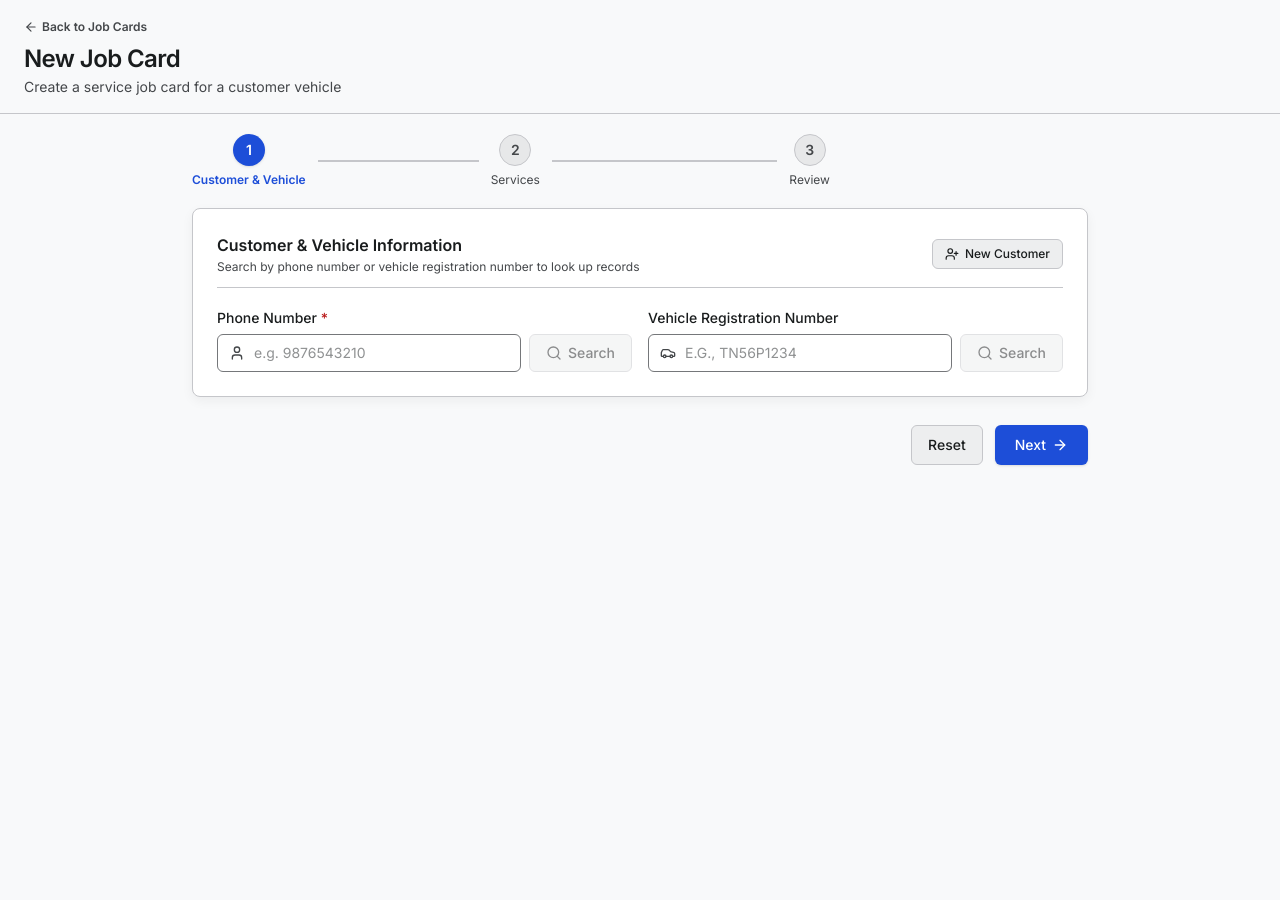
Test case: NewJobCard Component Workflow › looks up customer by phone number and automatically loads customer vehicles
The width and height of the screenshot is (1280, 900).
Type "9876543210" into the field with placeholder "e.g. 9876543210" at x=369, y=353, box [217, 334, 521, 372]
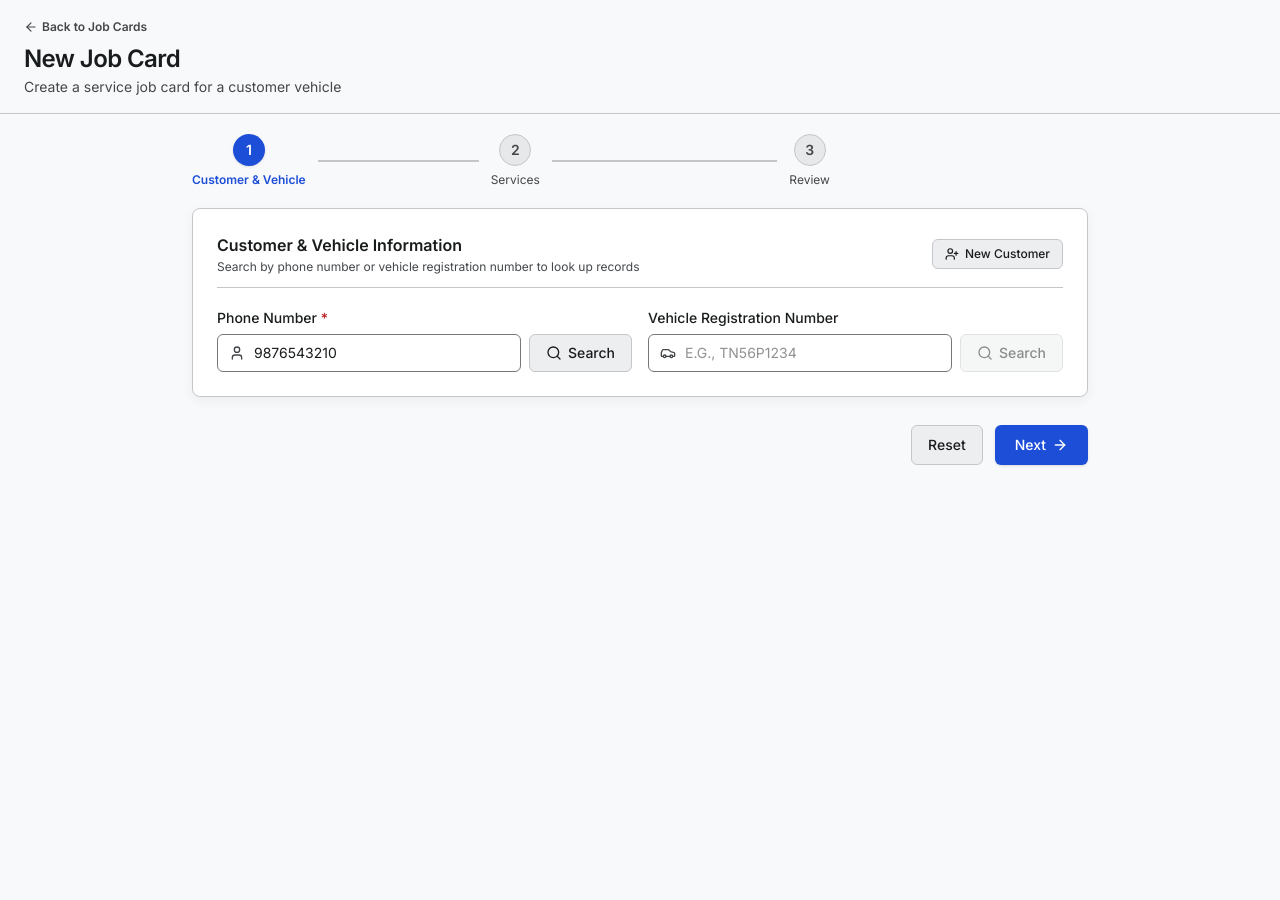
# Click search button next to phone
Click the 1st button "Search" at x=580, y=353, box [529, 334, 632, 372]
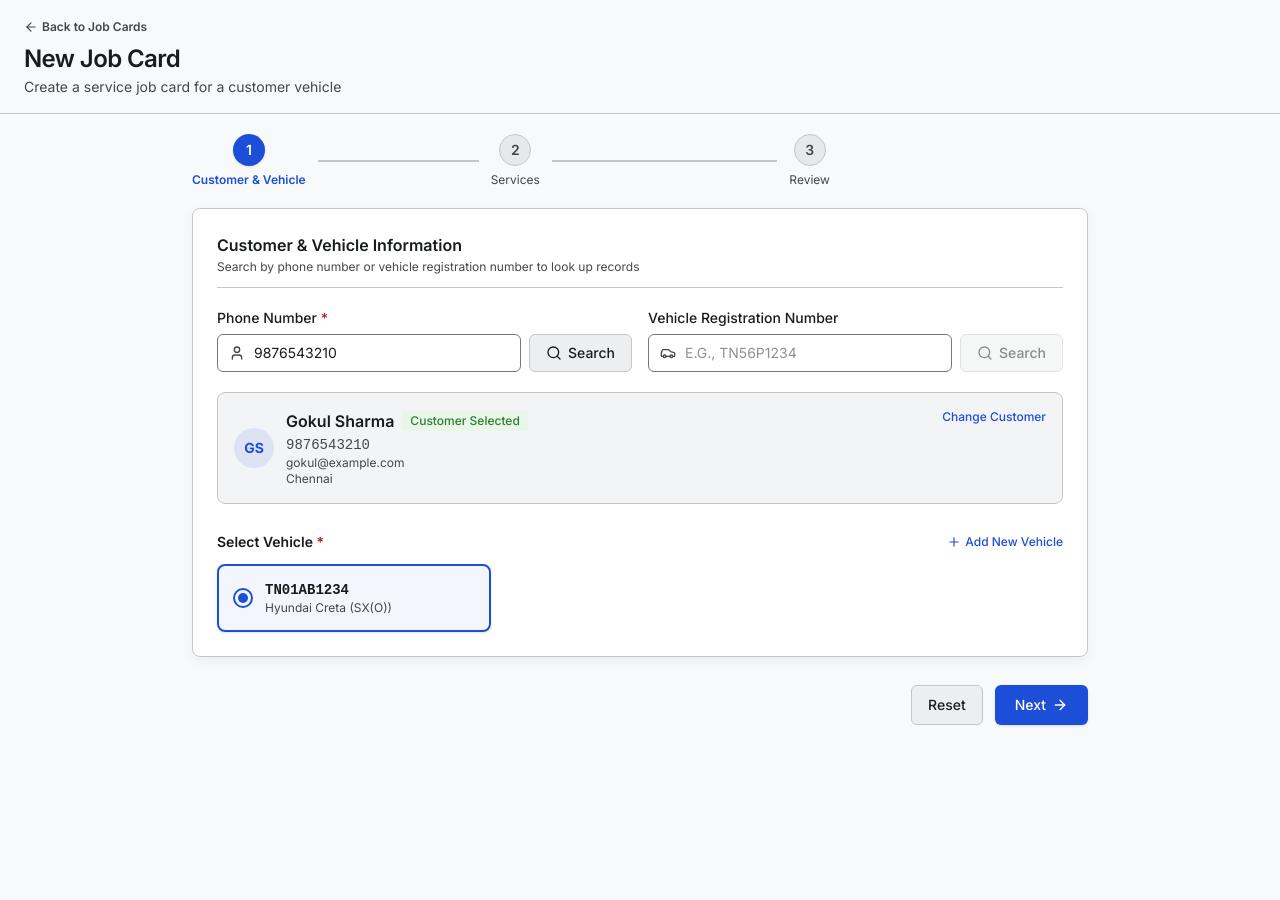
Expected: the text "Gokul Sharma" is shown, [286, 409, 394, 433]
Expected: the text "TN01AB1234" is shown, [265, 582, 349, 598]
